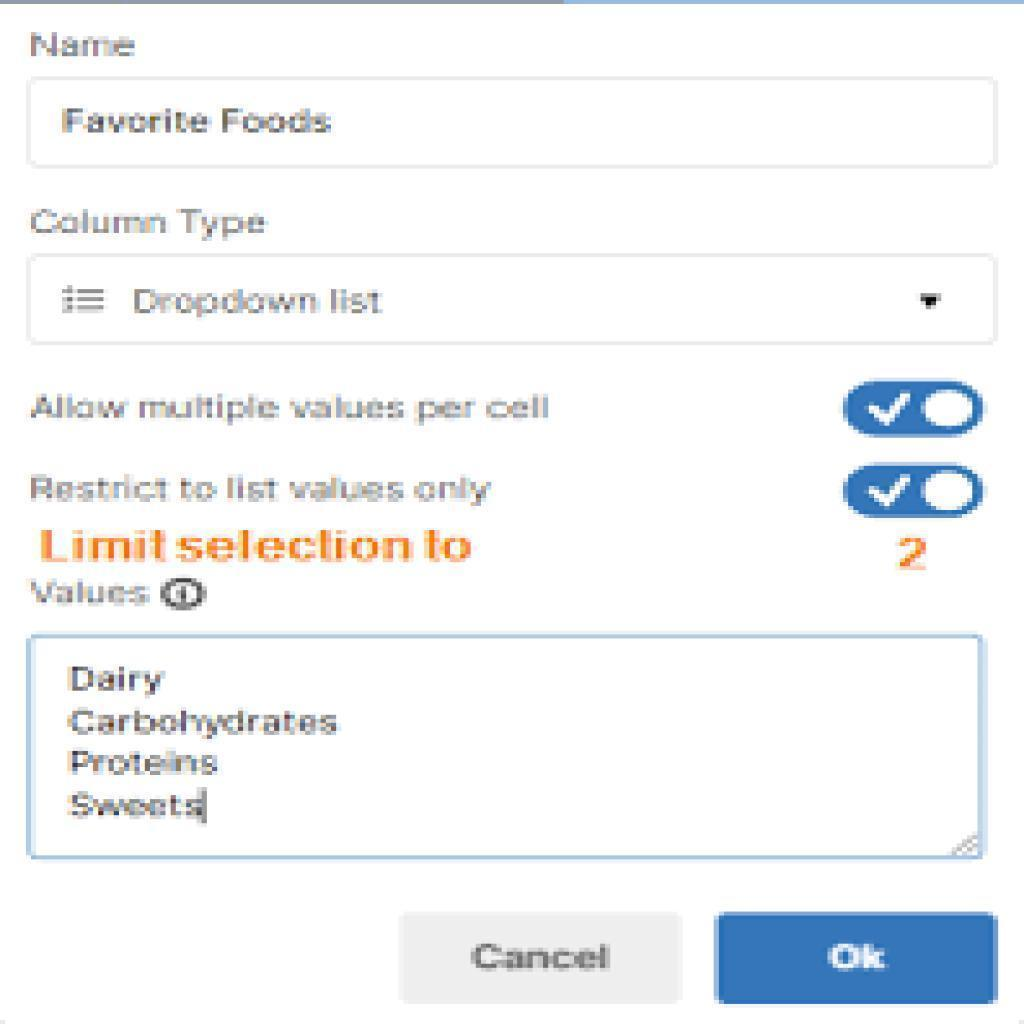button: (712, 911, 1002, 1010), (396, 910, 680, 1006)
dropdown: (27, 254, 997, 343)
input: (27, 75, 998, 171)
label: (27, 389, 549, 431), (28, 472, 500, 511), (29, 201, 268, 245), (23, 26, 134, 66)
switch: (845, 380, 983, 438), (843, 465, 983, 517)
